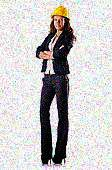helmet: (51, 5, 70, 30)
